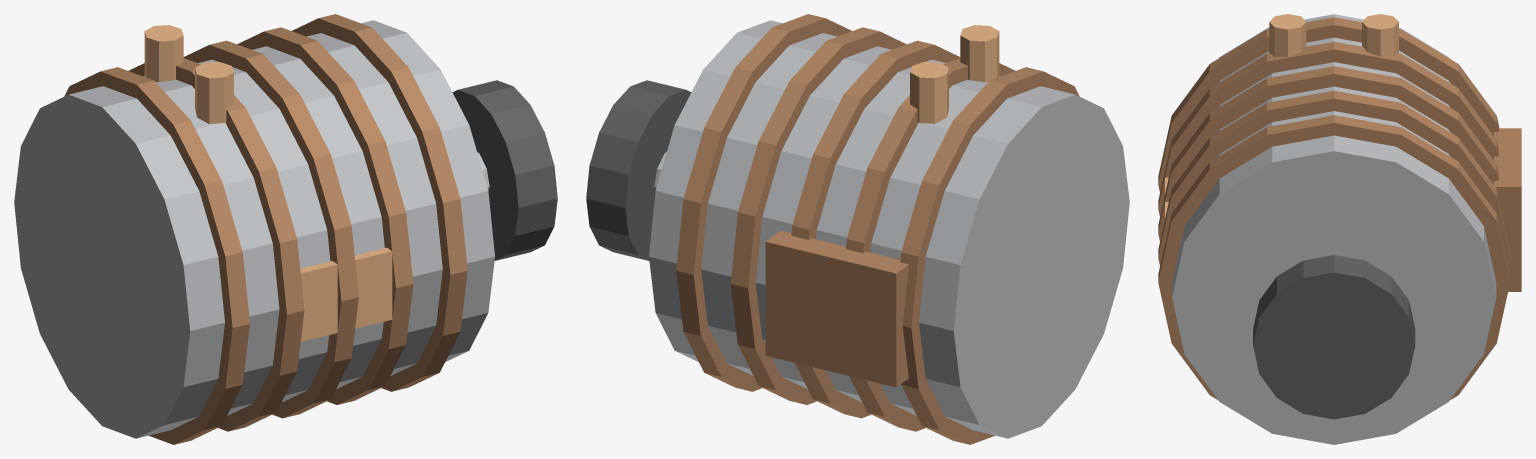
File: Loot_GeneratorPart.fbx
3 renders of one model, left to right at view 1: azimuth 30°, elevation 25°; view 2: azimuth 150°, elevation 25°; view 3: azimuth 270°, elevation 25°, orthographic. The views are drawn at different scales.
Visible parts, largest first — view 1: Loot_GeneratorPart; view 2: Loot_GeneratorPart; view 3: Loot_GeneratorPart.
Part boxes in pixels (left/top/right/bottom): Loot_GeneratorPart: left=14, top=14, right=557, bottom=444; Loot_GeneratorPart: left=586, top=14, right=1129, bottom=444; Loot_GeneratorPart: left=1158, top=14, right=1521, bottom=444.
Bounding box in the file's own units: 0.189 × 0.161 × 0.157.
